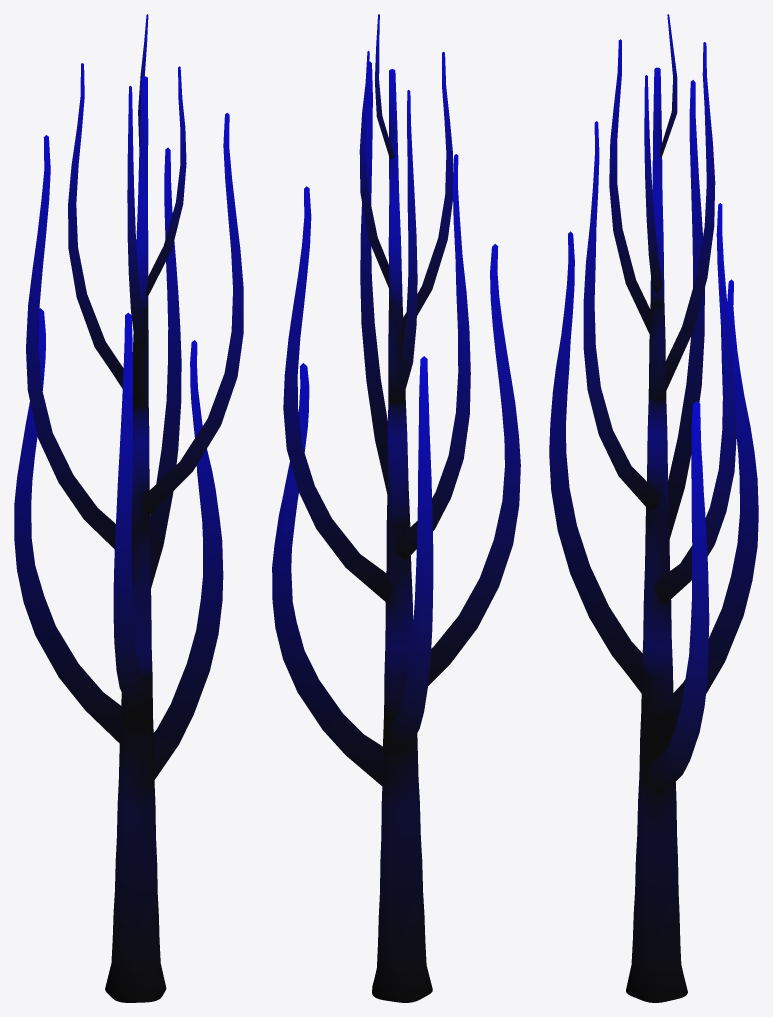
Rendered from Birch Trunk 001.fbx.
3 views of the same model, side by side, from view 1: azimuth 30°, elevation 25°; view 2: azimuth 150°, elevation 25°; view 3: azimuth 270°, elevation 25° (orthographic).
Visible parts, largest first — view 1: Birch_Trunk_001_LOD0; view 2: Birch_Trunk_001_LOD0; view 3: Birch_Trunk_001_LOD0.
Part boxes in pixels (x1,y1,x2,y2): Birch_Trunk_001_LOD0: [14, 14, 243, 1002]; Birch_Trunk_001_LOD0: [272, 14, 520, 1002]; Birch_Trunk_001_LOD0: [549, 14, 758, 1002].
Size of what is drawn, in the model's own units: 223 by 1064 by 205.
